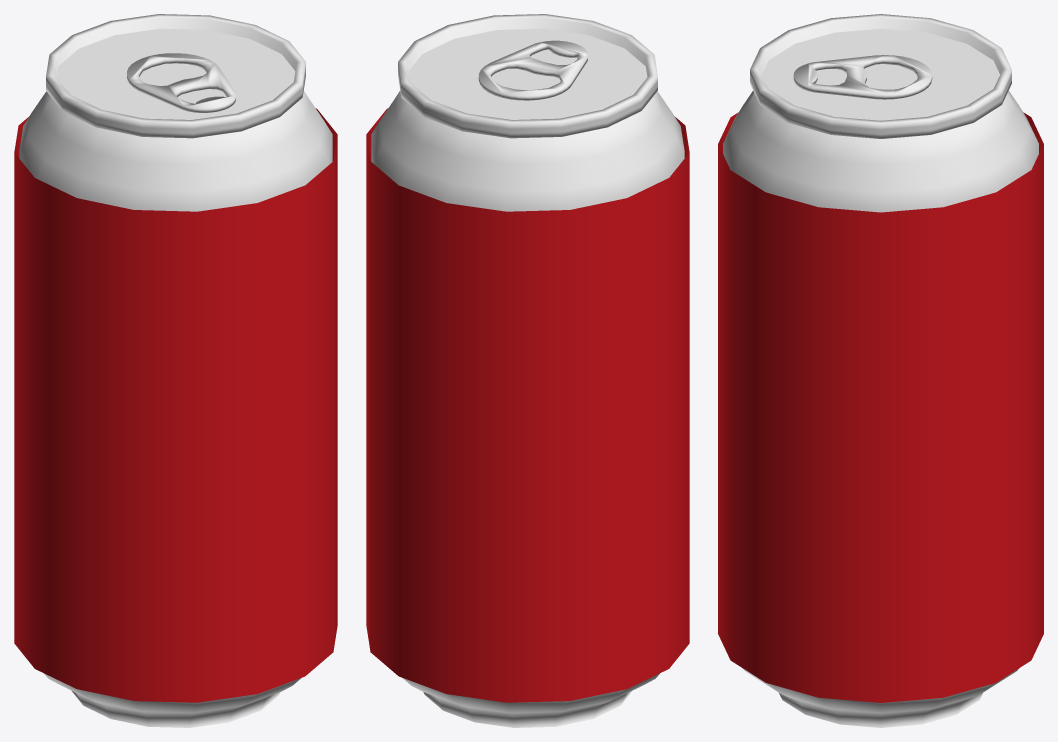
Rendered from LMetal.fbx.
3 views of the same model, side by side, from view 1: azimuth 30°, elevation 25°; view 2: azimuth 150°, elevation 25°; view 3: azimuth 270°, elevation 25° (orthographic).
Visible parts, largest first — view 1: Circle; view 2: Circle; view 3: Circle.
Boxes of the visible parts, <box> form: Circle: <box>14,14,337,727</box>; Circle: <box>366,14,689,727</box>; Circle: <box>718,14,1043,727</box>.
Size of the model in its own units: 144 by 300 by 144.
